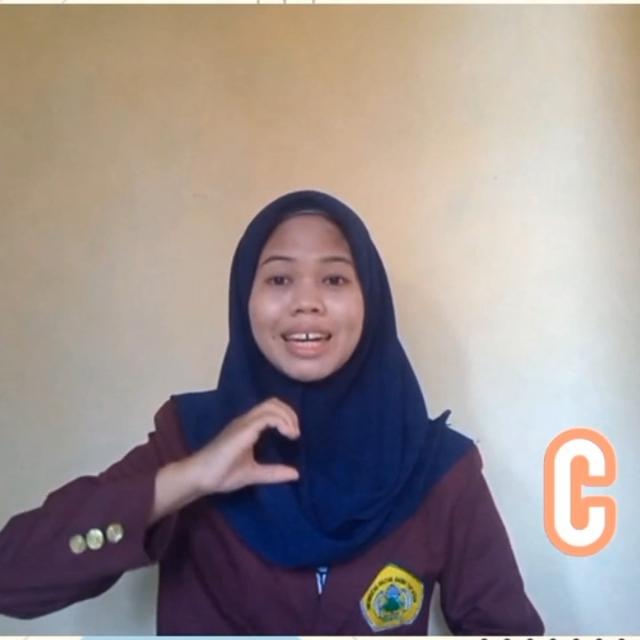C: (190, 400, 308, 502)
